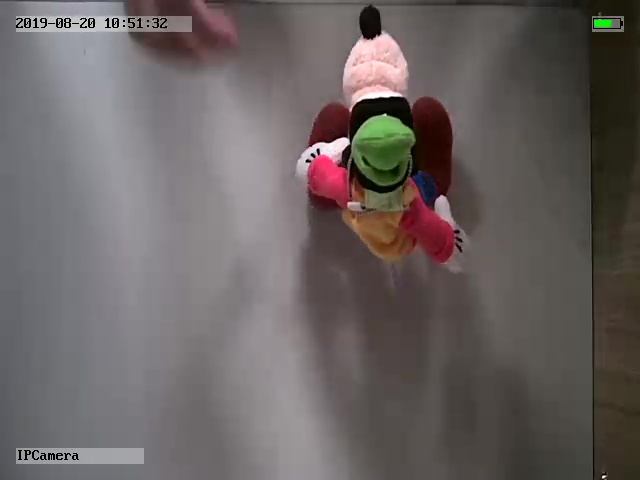goofy: (295, 5, 471, 274)
